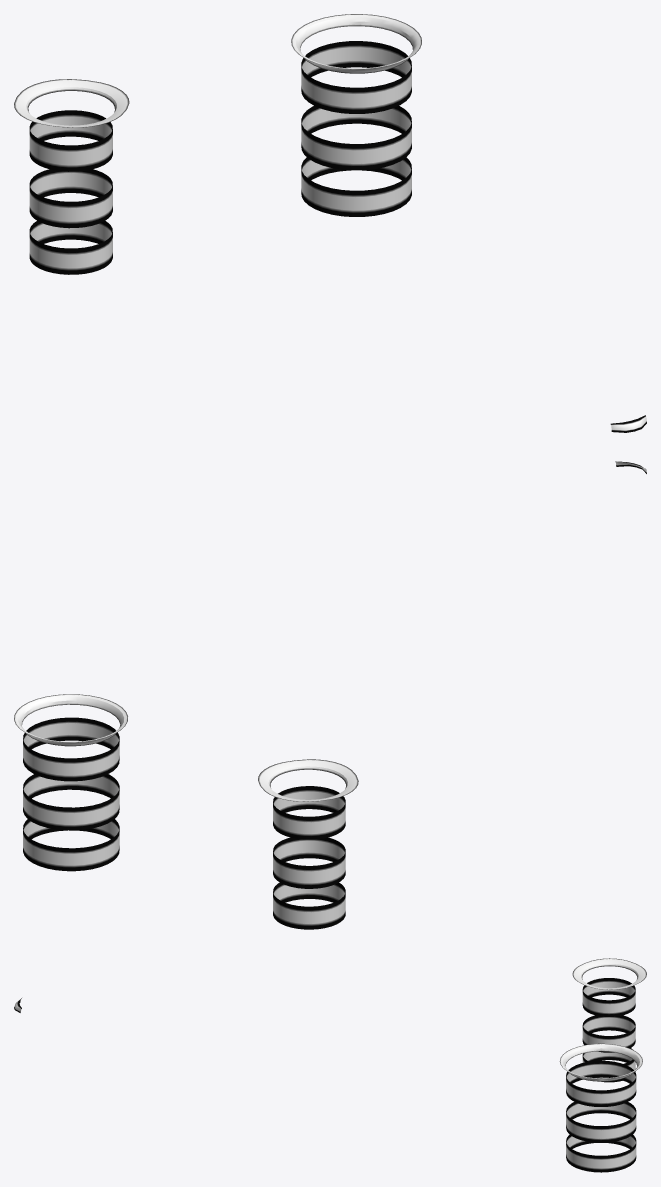
Rendered from SM_WaterfallRings.fbx.
3 renders of one model, top to bottom at view 1: azimuth 30°, elevation 25°; view 2: azimuth 150°, elevation 25°; view 3: azimuth 270°, elevation 25°, orthographic. The views are drawn at different scales.
Parts seen in each view (by area): view 1: SM_WaterfallRings.002; view 2: SM_WaterfallRings.002; view 3: SM_WaterfallRings.002.
Boxes of the visible parts, x1,y1,x2,y2 form: SM_WaterfallRings.002: (14, 14, 646, 432); SM_WaterfallRings.002: (14, 461, 646, 929); SM_WaterfallRings.002: (14, 958, 646, 1172).
Size of the model in its own units: 12927 by 4905 by 28926.
1 material, 1 textured.
